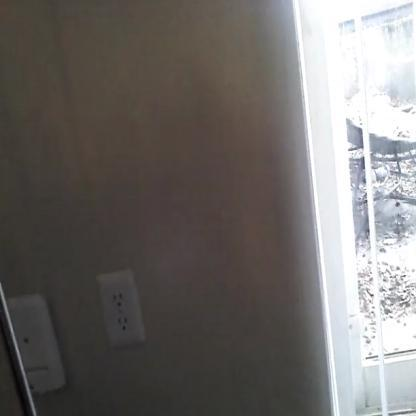OUTLET: (100, 270, 142, 348)
